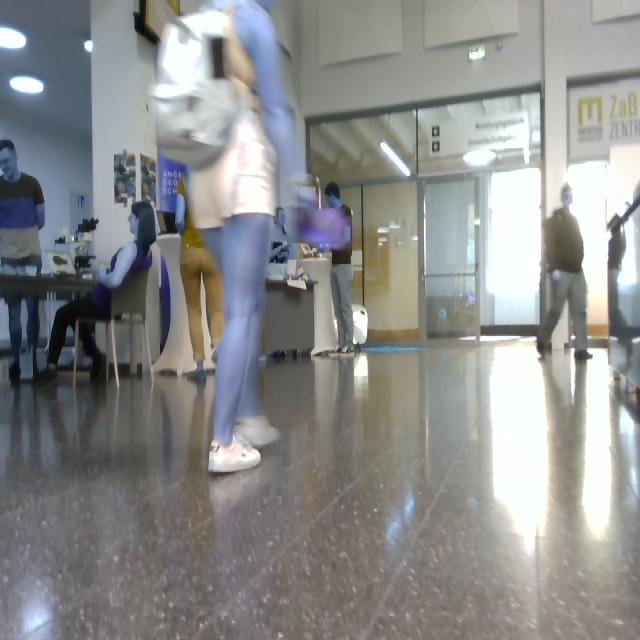chair: (96, 272, 154, 385), (74, 321, 81, 384)
desk: (262, 282, 314, 356)
door: (307, 94, 541, 345)
light bulb: (380, 141, 411, 177), (10, 76, 44, 94), (1, 26, 26, 50), (84, 40, 93, 53)
person: (47, 201, 157, 378), (537, 184, 592, 360), (176, 178, 224, 370), (1, 140, 45, 274), (326, 184, 354, 353), (6, 293, 22, 384), (271, 209, 291, 265), (27, 297, 39, 376)
staircase: (608, 184, 640, 402)
table: (153, 234, 196, 376), (302, 257, 338, 356), (202, 288, 214, 369)
tiled floor: (1, 344, 640, 640)
